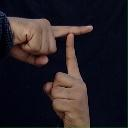hand: (42, 32, 91, 127), (5, 15, 93, 66)
